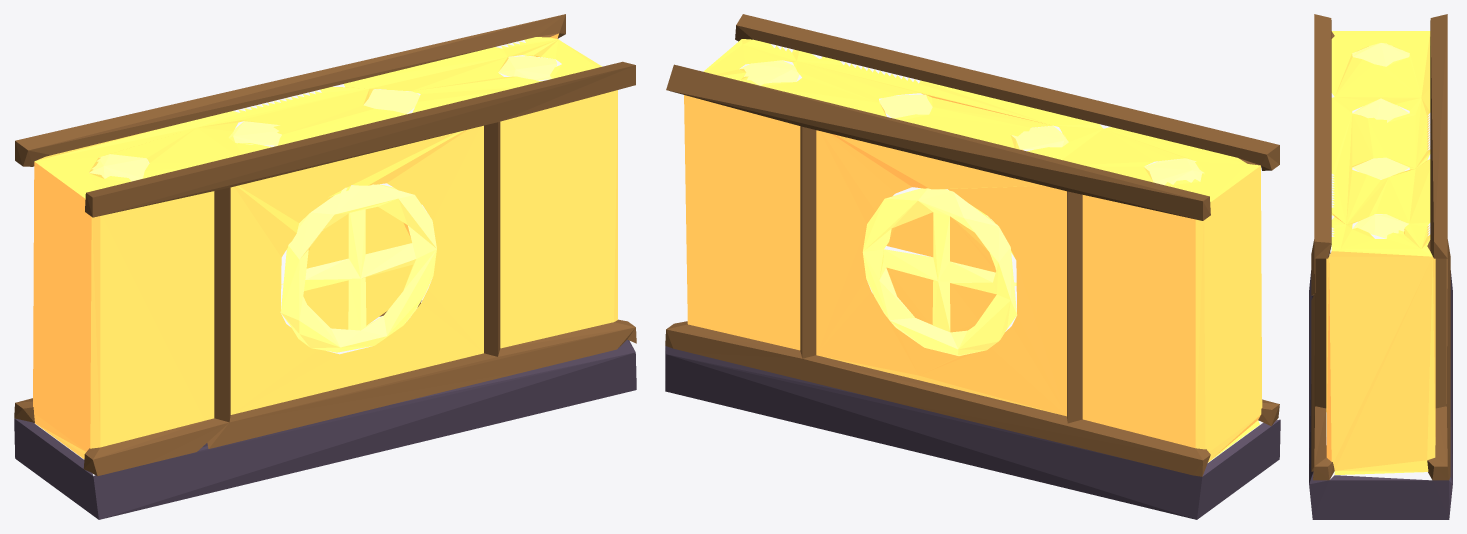
The model's file is barrier_living.glb.
3 renders of one model, left to right at view 1: azimuth 30°, elevation 25°; view 2: azimuth 150°, elevation 25°; view 3: azimuth 270°, elevation 25°, orthographic. The views are drawn at different scales.
Visible parts, largest first — view 1: barrier_living; view 2: barrier_living; view 3: barrier_living.
Part boxes in pixels (<box>): barrier_living: <box>14,14,636,519</box>; barrier_living: <box>665,14,1280,519</box>; barrier_living: <box>1309,14,1452,519</box>.
Size of the model in its own units: 2.4 by 1.37 by 0.64.
